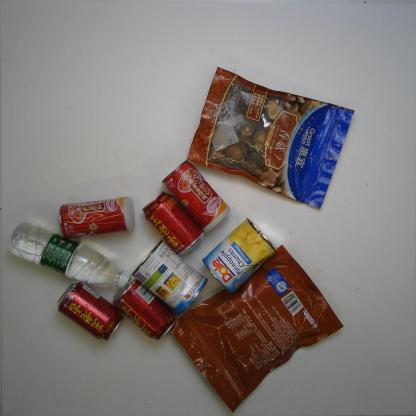Canned Food: (205, 218, 281, 297), (134, 237, 206, 318), (165, 160, 235, 234), (58, 194, 140, 242)
Dried Food: (170, 240, 344, 408), (182, 62, 356, 212)
Drink: (12, 217, 126, 293), (48, 276, 121, 348), (112, 276, 175, 344), (140, 188, 202, 254)
